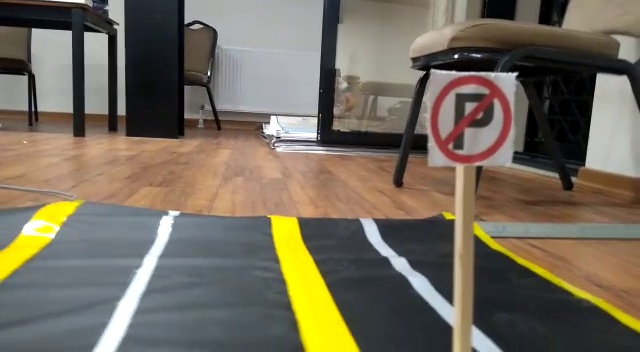park_yapilmaz: (426, 73, 515, 163)
